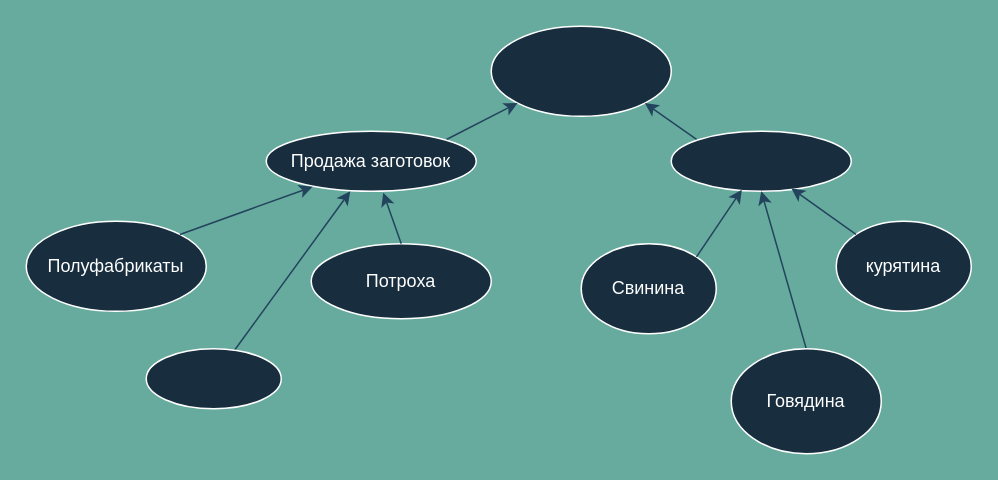
Some shapes in this 998 by 480 pixel diagram are drawn without their labels. Each missing label, with the centre of its shape:
Прибыль: pixel 580 70
Продажа туш: pixel 760 160
фарш: pixel 213 378
